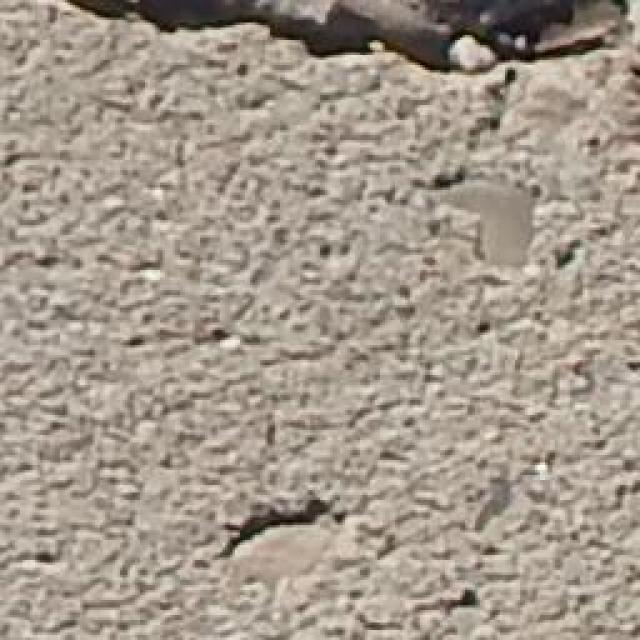concrete-crack: (54, 0, 640, 78), (215, 491, 341, 561)
